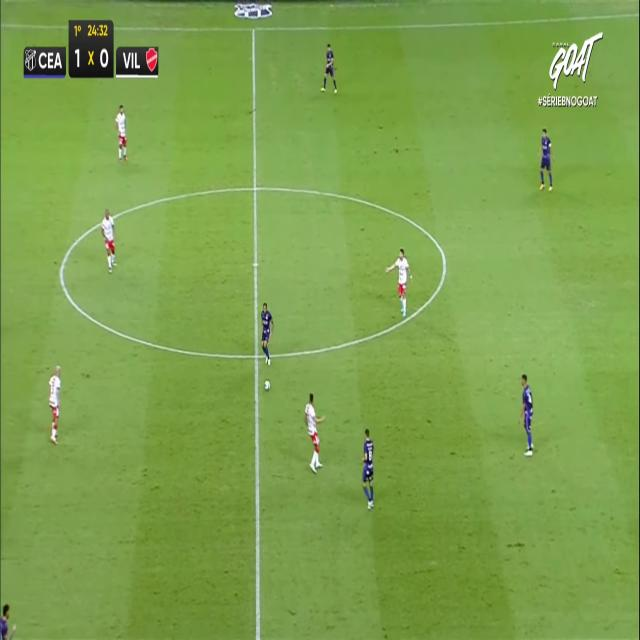ball: (265, 379, 270, 390)
player: (386, 247, 413, 317), (304, 392, 325, 471), (520, 375, 535, 455), (48, 365, 61, 443), (101, 207, 116, 272), (362, 428, 374, 509), (538, 127, 553, 190), (260, 301, 273, 365), (321, 43, 337, 93), (115, 103, 128, 160), (0, 603, 17, 639)
